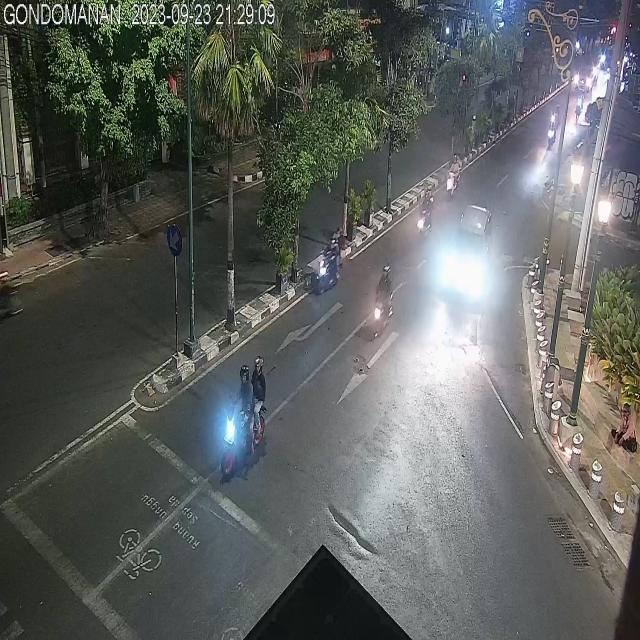car: (442, 203, 492, 294), (574, 67, 594, 93)
motorcycle: (218, 356, 273, 476), (318, 227, 342, 301), (372, 266, 394, 340), (417, 184, 433, 238), (447, 154, 460, 196), (574, 89, 585, 119), (548, 115, 556, 144)
